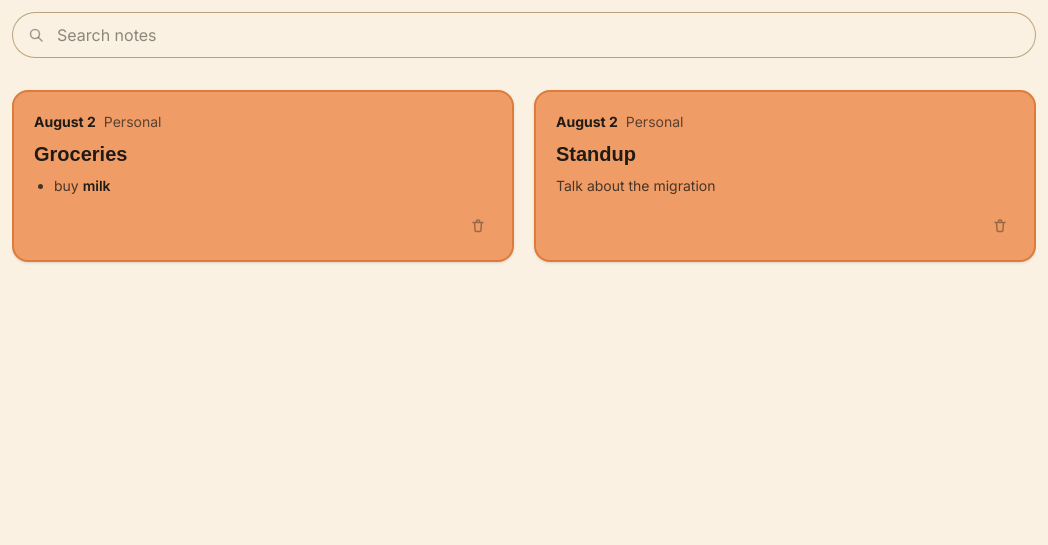
Test: NoteSearch › explains an empty result instead of showing a blank page
This screenshot has width=1048, height=545.
Type "zzz" into the search field labelled "Search notes" at (524, 35), box left=12, top=12, right=1036, bottom=58
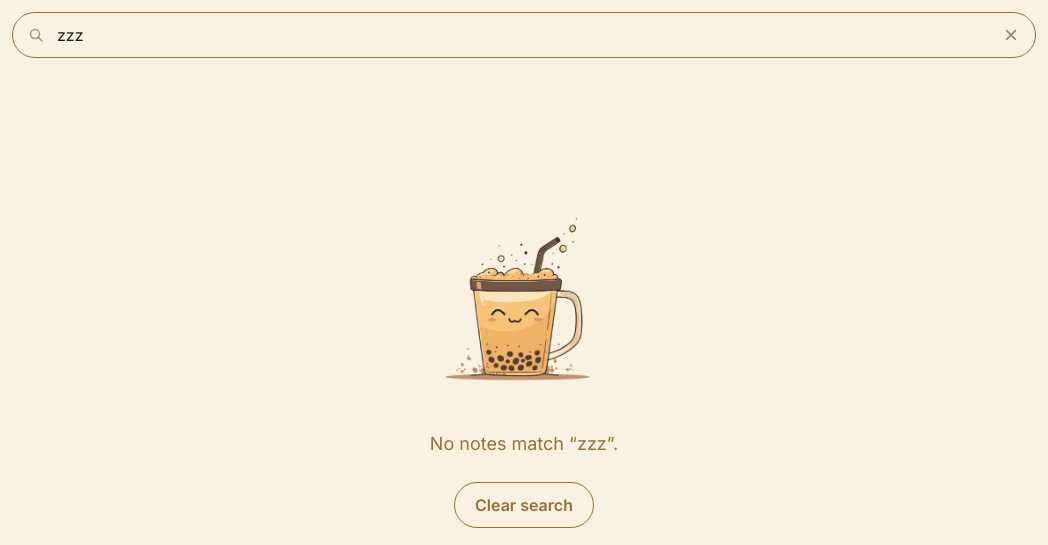
Result: the text "No notes match “zzz”." is shown at left=430, top=430, right=618, bottom=458
Result: the link "Groceries" is gone
